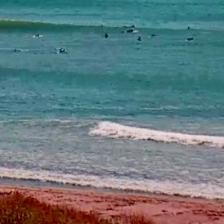surfer: (122, 29, 135, 34), (57, 48, 66, 55), (122, 24, 136, 28), (12, 48, 21, 54), (150, 32, 158, 38), (186, 37, 194, 42), (32, 34, 41, 38), (136, 36, 142, 42), (103, 34, 109, 39), (186, 26, 190, 31)
